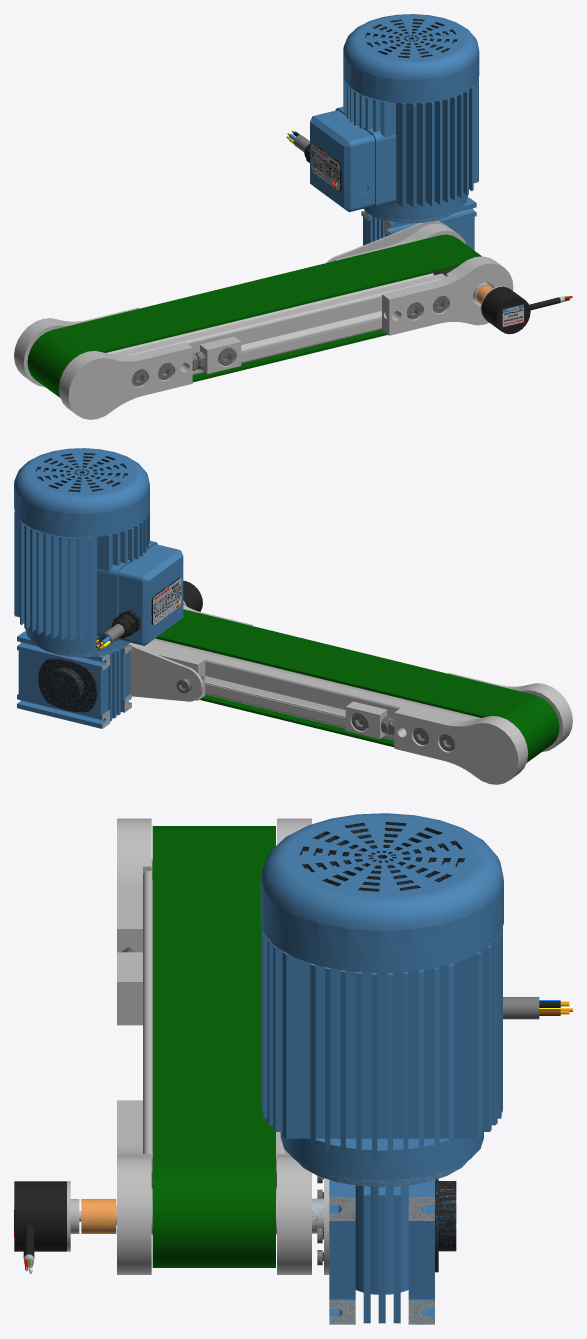
The model's file is Cinta Transportadora (DAE).dae.
3 renders of one model, top to bottom at view 1: azimuth 30°, elevation 25°; view 2: azimuth 150°, elevation 25°; view 3: azimuth 270°, elevation 25°, orthographic. The views are drawn at different scales.
Visible parts, largest first — view 1: group_17 (×2), CINTA, group_18, group_6 (×3), group_48, group_51, group_10, CODO, group_49, group_4, group_43, CHAPA (+1 smaller); view 2: group_17 (×2), CINTA, group_19, CODO (×4), group_6 (×3), group_49, CHAPA, group_10, group_48, group_47, group_50, group_4; view 3: group_17 (×3), CINTA, group_6 (×3), CODO (×7), group_51, group_50, group_48, group_4, group_18, group_43, group_5, group_8.
Boxes of the visible parts, x1,y1,x2,y2 form: group_17 (×2): (314, 51, 479, 219); CINTA: (27, 234, 481, 397); group_18: (106, 273, 446, 375); group_6 (×3): (343, 14, 479, 79); group_48: (59, 342, 192, 419); group_51: (382, 256, 513, 335); group_10: (310, 116, 350, 211); CODO: (361, 197, 476, 250); group_49: (14, 307, 138, 386); group_4: (481, 286, 530, 334); group_43: (200, 336, 241, 373); CHAPA: (326, 220, 447, 262); group_17 (×2): (14, 485, 179, 653); CINTA: (155, 609, 559, 762); group_19: (147, 638, 480, 740); CODO (×4): (17, 631, 131, 728); group_6 (×3): (14, 448, 149, 513); group_49: (394, 707, 528, 784); CHAPA: (130, 646, 201, 701); group_10: (142, 550, 183, 645); group_48: (448, 672, 572, 751); group_47: (345, 701, 387, 738); group_50: (129, 642, 205, 700); group_4: (183, 581, 202, 611); group_17 (×3): (260, 878, 503, 1187); CINTA: (152, 826, 275, 1267); group_6 (×3): (260, 813, 503, 930); CODO (×7): (329, 1180, 456, 1323); group_51: (117, 1100, 151, 1274); group_50: (277, 1151, 311, 1274); group_48: (117, 818, 151, 952); group_4: (14, 1181, 66, 1251); group_18: (143, 871, 152, 1196); group_43: (117, 952, 142, 1025); group_5: (81, 1199, 116, 1233); group_8: (503, 997, 539, 1019).
Bounding box in the file's own units: 22.09 × 12.48 × 10.45.
